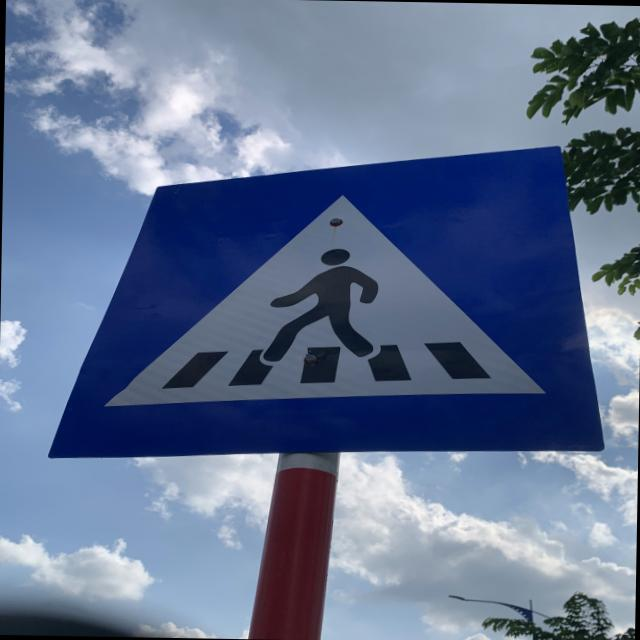Giao_Nhau_Duong_Uu_Tien: (47, 135, 610, 463)
